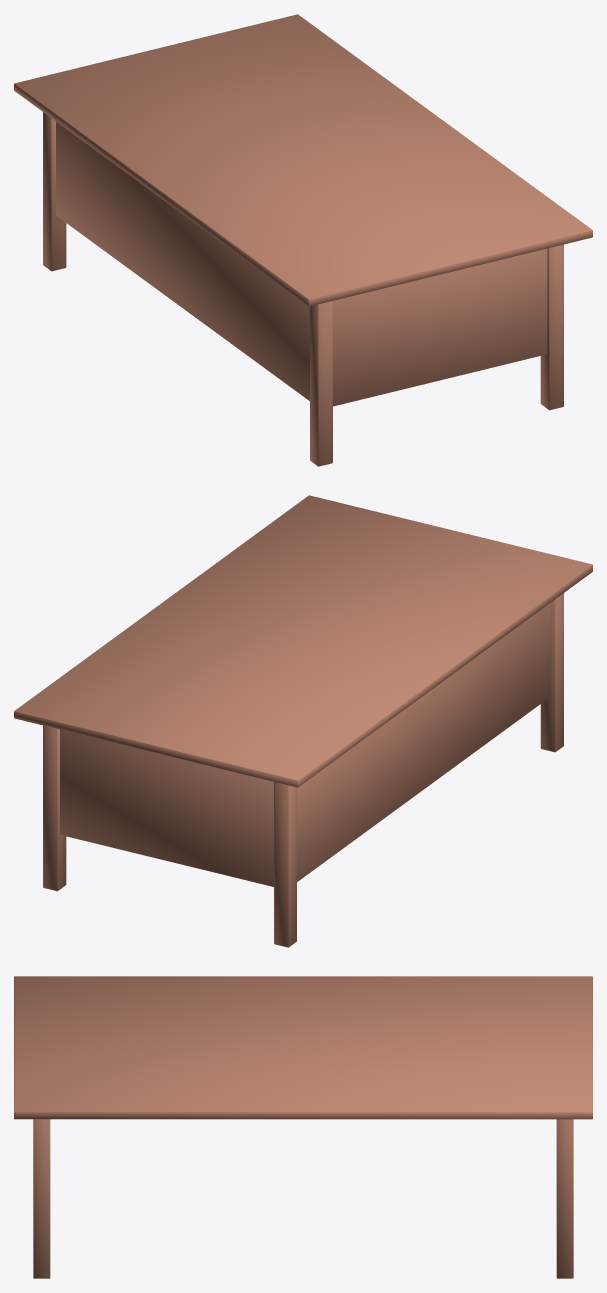
File: Desk.fbx
The picture shows the model from 3 angles, top to bottom: view 1: azimuth 30°, elevation 25°; view 2: azimuth 150°, elevation 25°; view 3: azimuth 270°, elevation 25°; orthographic projection.
Visible parts, largest first — view 1: Cube.007; view 2: Cube.007; view 3: Cube.007.
Boxes of the visible parts, x1,y1,x2,y2 form: Cube.007: (14,14,592,466); Cube.007: (14,495,592,947); Cube.007: (14,976,592,1278).
Bounding box in the file's own units: 275 × 166 × 494.
